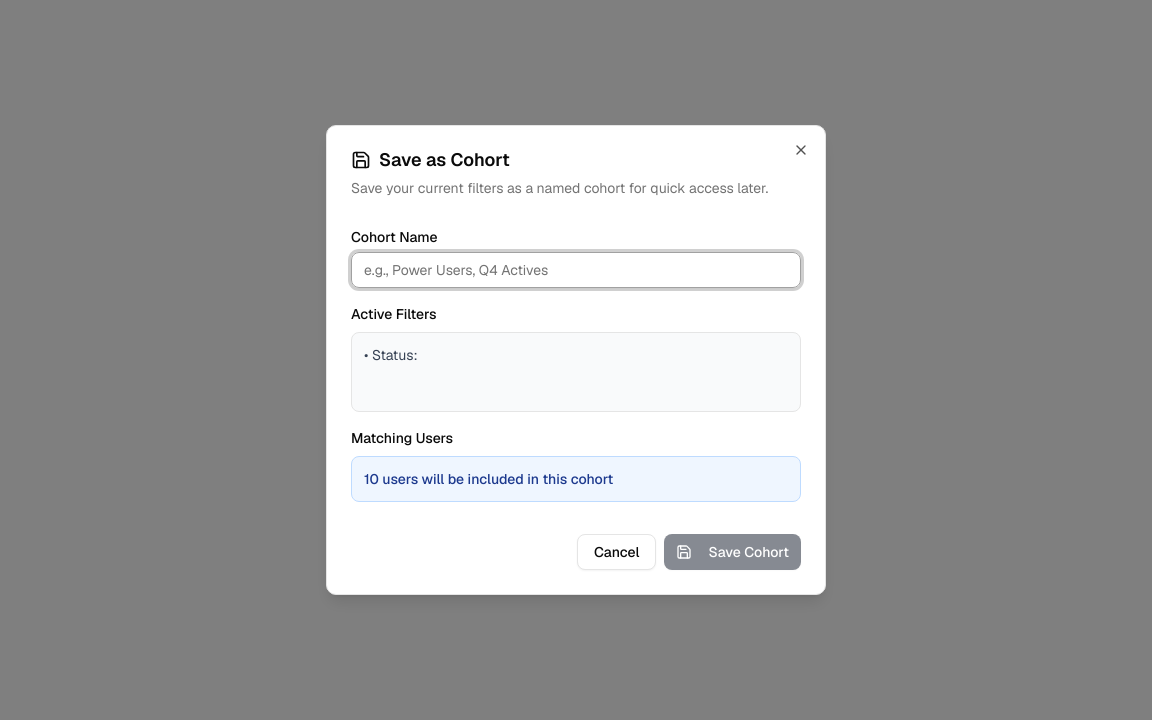
SaveCohortDialog › should show error when duplicate name
Type "Existing Cohort" into the field labelled "Cohort Name" at (576, 270), box [351,252,801,288]
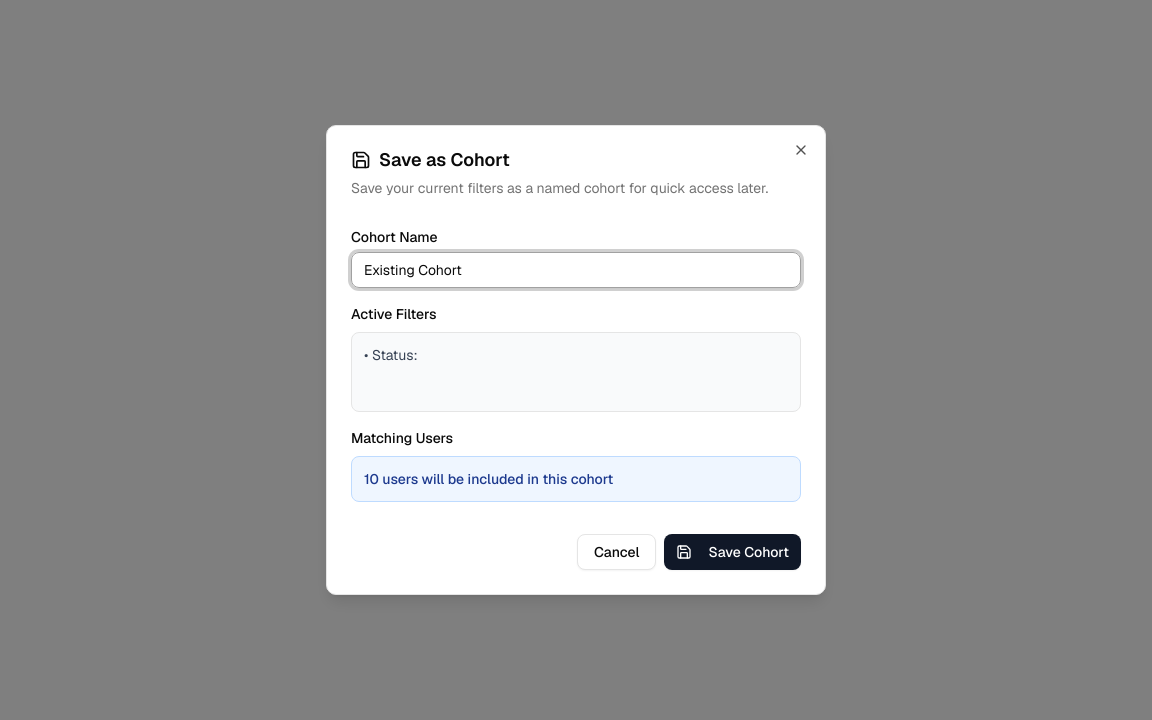
Click the button "Save Cohort" at (733, 552), box [664,534,801,570]
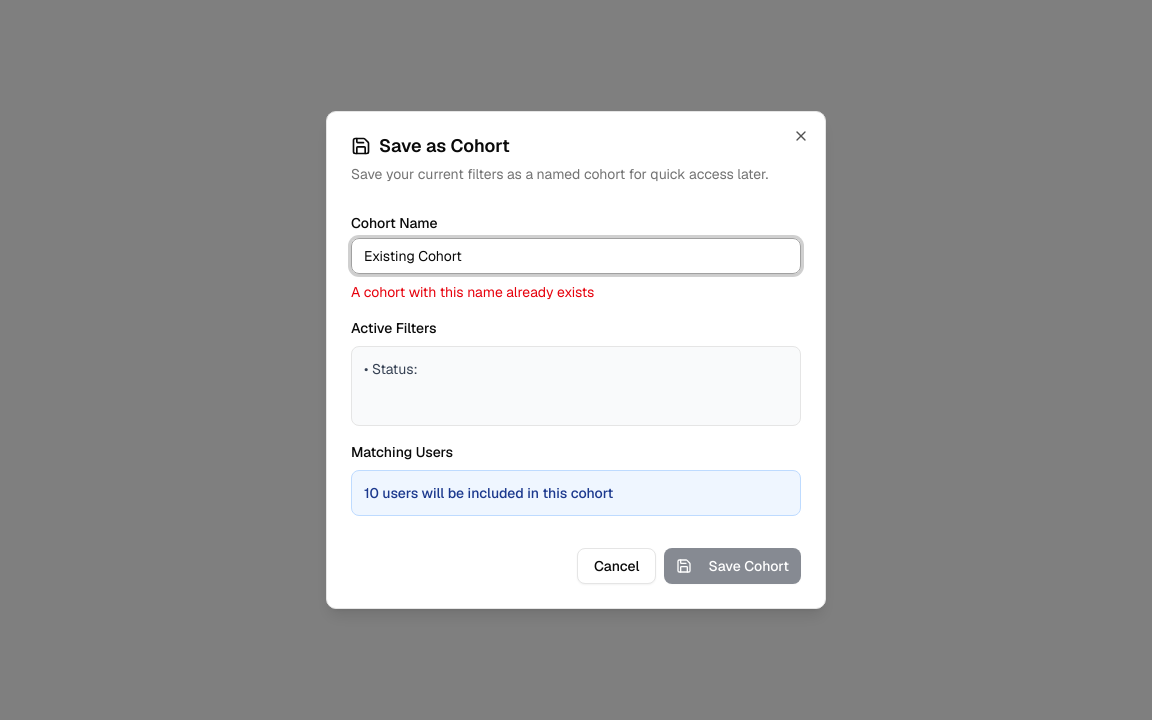
Expected: the text "A cohort with this name already exists" is shown, [351,283,594,301]
